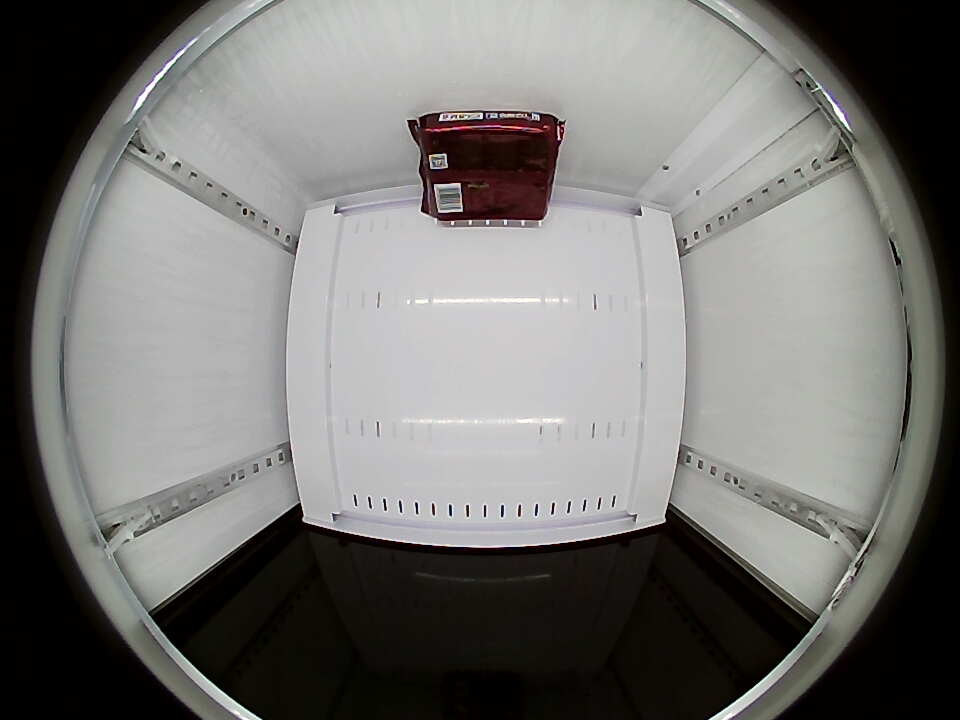haochidian: (408, 110, 566, 164)
